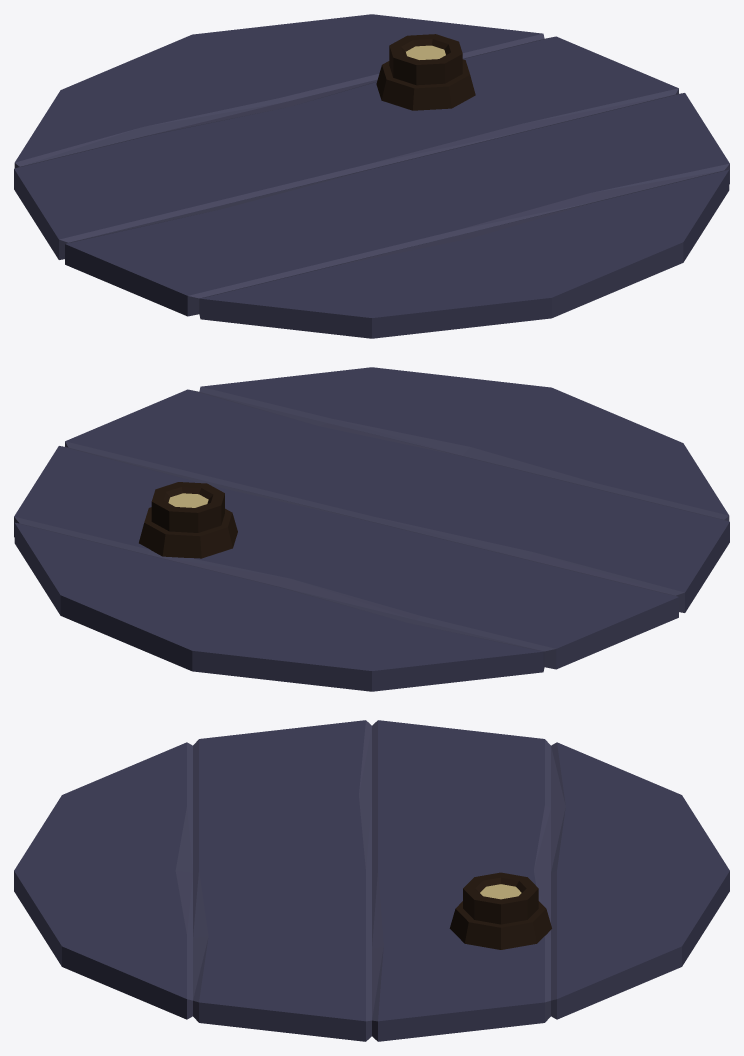
The model's file is SFFA_Barrel_Lid.fbx.
The picture shows the model from 3 angles, top to bottom: view 1: azimuth 30°, elevation 25°; view 2: azimuth 150°, elevation 25°; view 3: azimuth 270°, elevation 25°; orthographic projection.
Visible parts, largest first — view 1: SFFA_Barrel_Lid; view 2: SFFA_Barrel_Lid; view 3: SFFA_Barrel_Lid.
Boxes of the visible parts, x1,y1,x2,y2 form: SFFA_Barrel_Lid: [14, 14, 729, 338]; SFFA_Barrel_Lid: [14, 367, 729, 691]; SFFA_Barrel_Lid: [14, 720, 729, 1041].
Bounding box in the file's own units: 52.8 × 4.95 × 53.04.
